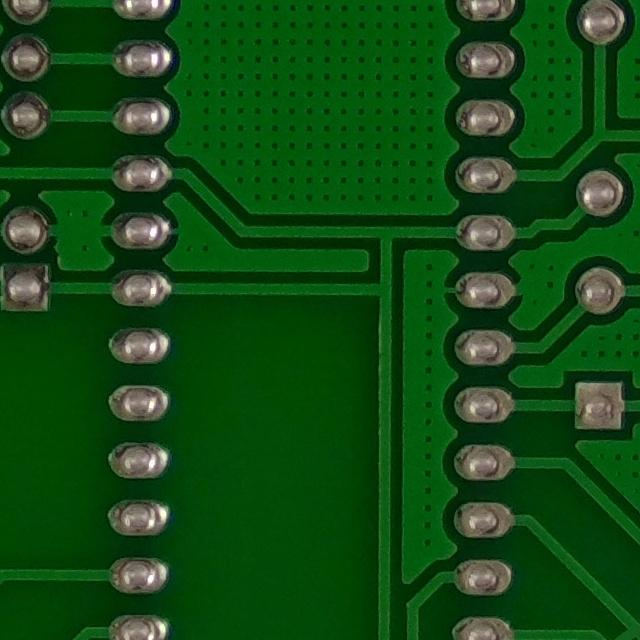short: (585, 595, 640, 640)
